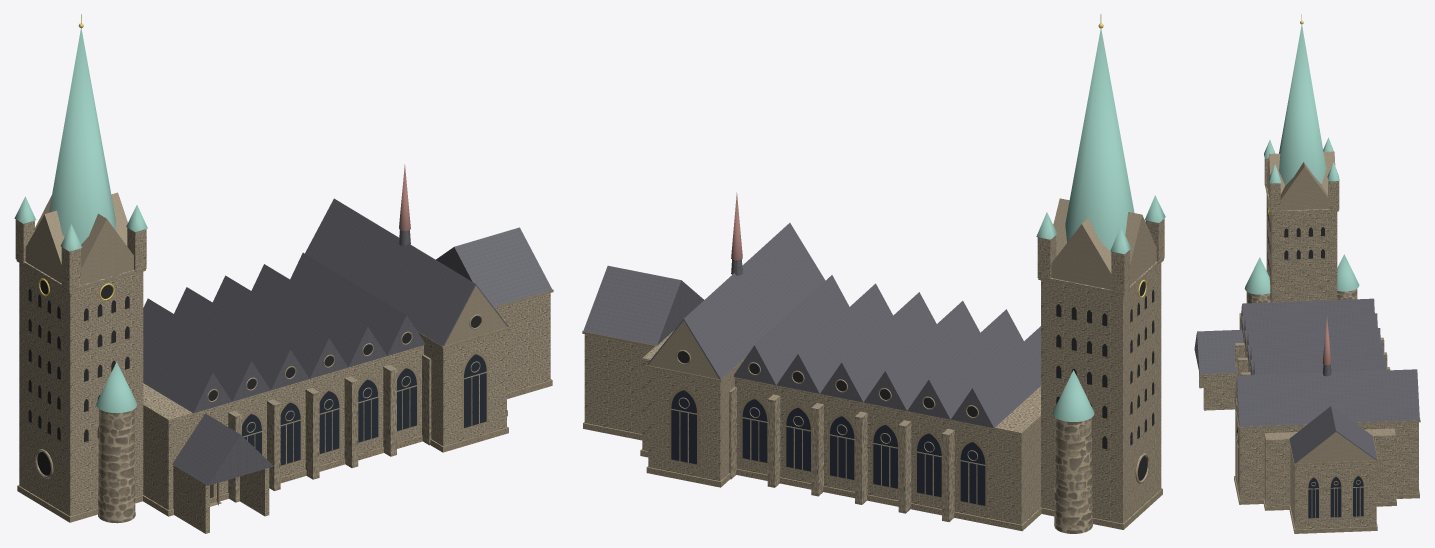
Rendered from dom.glb.
The picture shows the model from 3 angles, left to right: view 1: azimuth 30°, elevation 25°; view 2: azimuth 150°, elevation 25°; view 3: azimuth 270°, elevation 25°; orthographic projection. The views are drawn at different scales.
Parts seen in each view (by area): view 1: Dom; view 2: Dom; view 3: Dom.
Boxes of the visible parts, box(x1,y1,x2,y2) form: Dom: box(14, 14, 553, 533); Dom: box(582, 14, 1165, 533); Dom: box(1194, 14, 1420, 533).
Bounding box in the file's own units: 113 × 101 × 58.76.
Materials: 10 (3 with a texture image).
